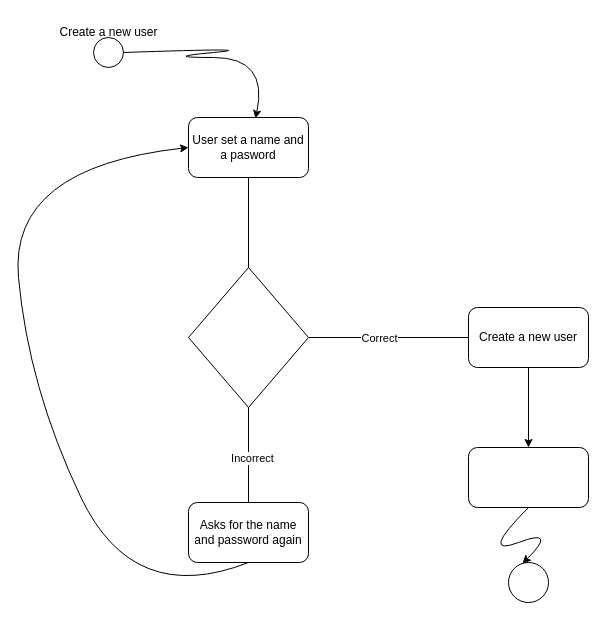
Some shapes in this 606 by 620 pixel diagram are drawn without their labels. The box of each missing label's shape, as (x1, y1, x2, y2) in pixels:
Is correct the name and password?: (188, 266, 308, 408)
Open new user workspace: (468, 446, 588, 508)
